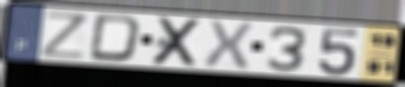3: (266, 24, 310, 73)
5: (315, 26, 362, 77)
D: (86, 13, 144, 64)
X: (149, 16, 206, 68), (201, 18, 256, 71)
Z: (40, 9, 90, 61)
